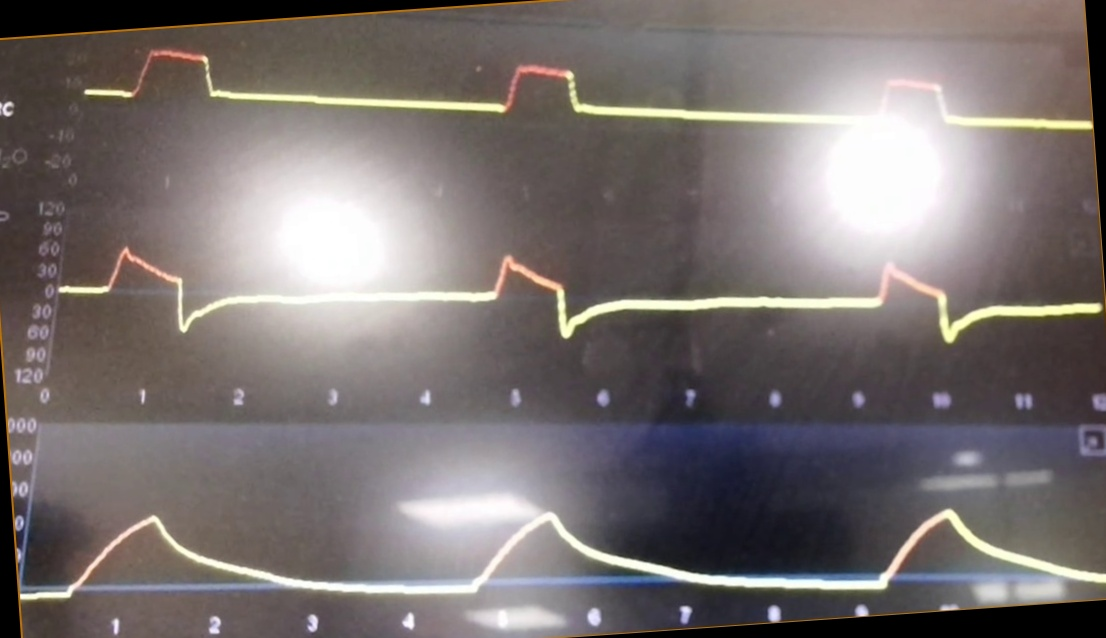Normal Flow: (61, 223, 1099, 381)
Normal Volume: (25, 477, 1106, 602)
